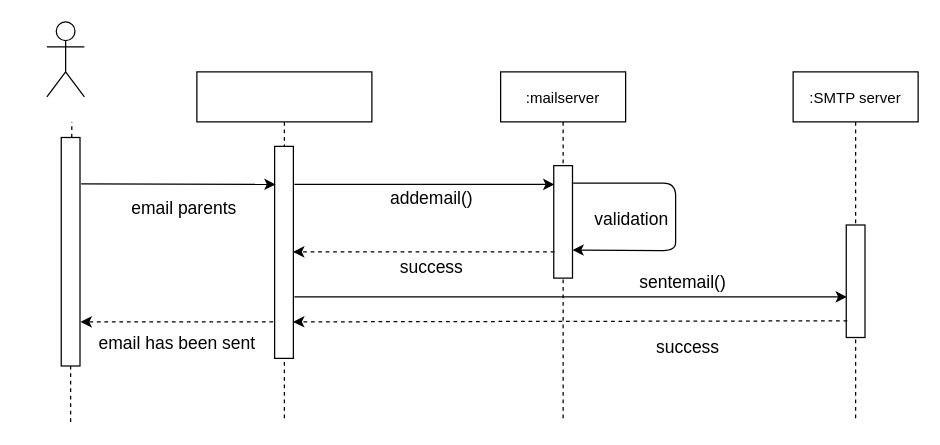
This 940x445 diagram has some shape labels left out. The box of each missing label's shape, as (x1, y1, x2, y2) in pixels:
:EmailController: (196, 71, 372, 422)
Admin: (46, 21, 84, 97)
